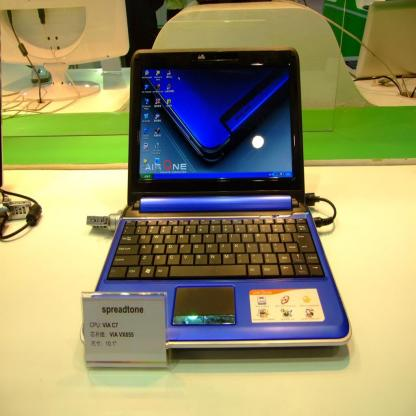board: (83, 39, 351, 354), (142, 69, 288, 162)
